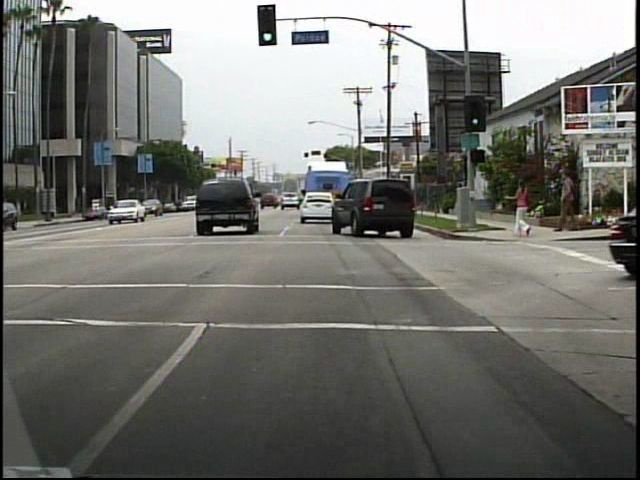person: (506, 173, 540, 242), (550, 166, 580, 233)
